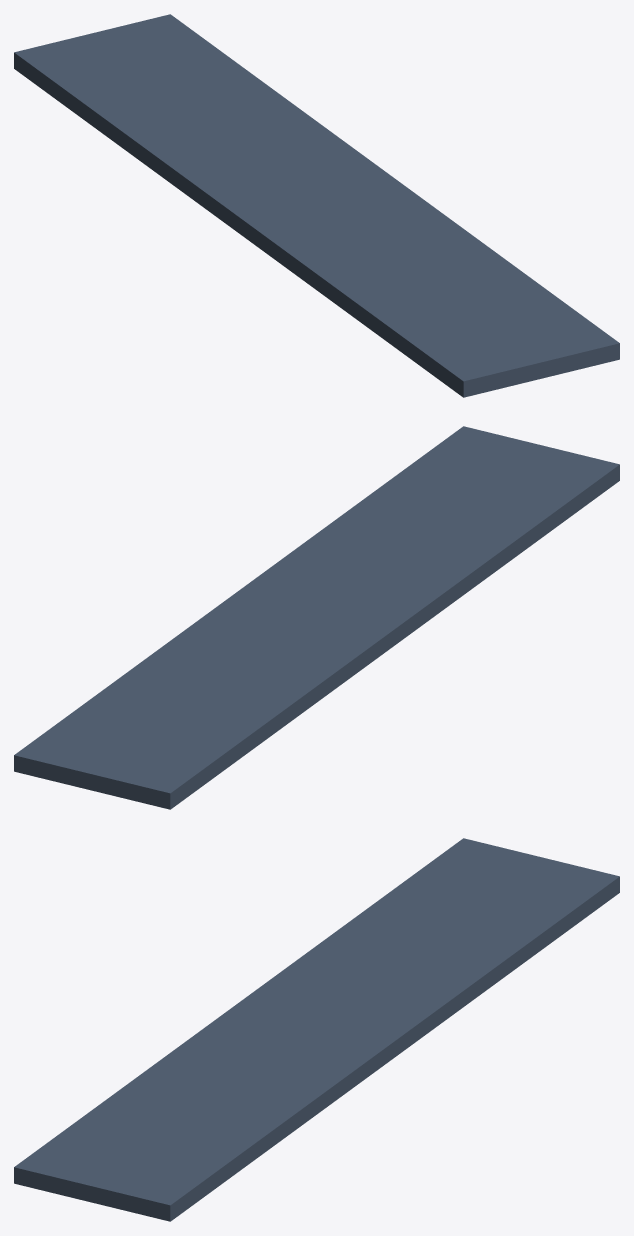
File: floor_001_u_freight_zaschitnyy_peshehodnyy_korid_floor.obj
3 views of the same model, one above another, from view 1: azimuth 30°, elevation 25°; view 2: azimuth 150°, elevation 25°; view 3: azimuth 330°, elevation 25° (orthographic).
Parts seen in each view (by area): view 1: Floor_001_u_freight_zaschitnyy_peshehodnyy_korid_floor; view 2: Floor_001_u_freight_zaschitnyy_peshehodnyy_korid_floor; view 3: Floor_001_u_freight_zaschitnyy_peshehodnyy_korid_floor.
Part boxes in pixels (x1,y1,x2,y2): Floor_001_u_freight_zaschitnyy_peshehodnyy_korid_floor: [14, 14, 619, 397]; Floor_001_u_freight_zaschitnyy_peshehodnyy_korid_floor: [14, 426, 619, 809]; Floor_001_u_freight_zaschitnyy_peshehodnyy_korid_floor: [14, 838, 619, 1221].
Bounding box in the file's own units: 2 × 0.2 × 9.96.
